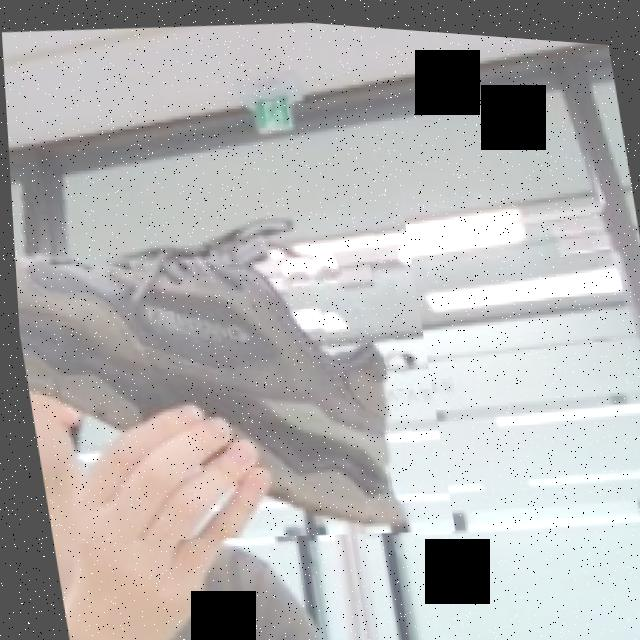shoe: (7, 142, 450, 566)
